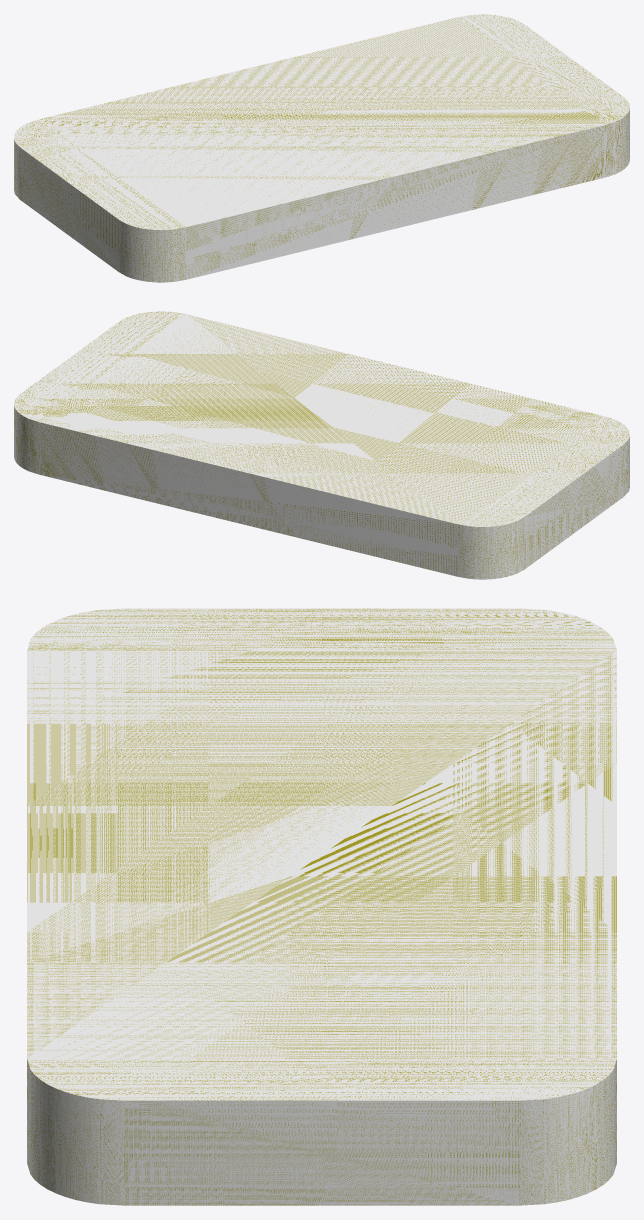
Rendered from original-14.obj.
The picture shows the model from 3 angles, top to bottom: view 1: azimuth 30°, elevation 25°; view 2: azimuth 150°, elevation 25°; view 3: azimuth 270°, elevation 25°; orthographic projection. The views are drawn at different scales.
Visible parts, largest first — view 1: mesh13/mesh13-geometry#mesh13-geometry; view 2: mesh13/mesh13-geometry#mesh13-geometry; view 3: mesh13/mesh13-geometry#mesh13-geometry.
Part boxes in pixels (x1,y1,x2,y2): mesh13/mesh13-geometry#mesh13-geometry: [14, 14, 629, 282]; mesh13/mesh13-geometry#mesh13-geometry: [14, 311, 629, 579]; mesh13/mesh13-geometry#mesh13-geometry: [27, 608, 616, 1205].
Bounding box in the file's own units: 0.1114 × 0.0111 × 0.0564.
